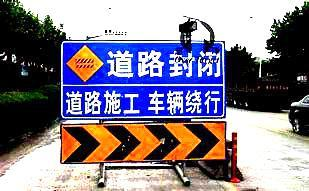sign: (60, 41, 225, 159)
